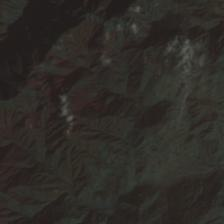landslides: (52, 59, 68, 69)
